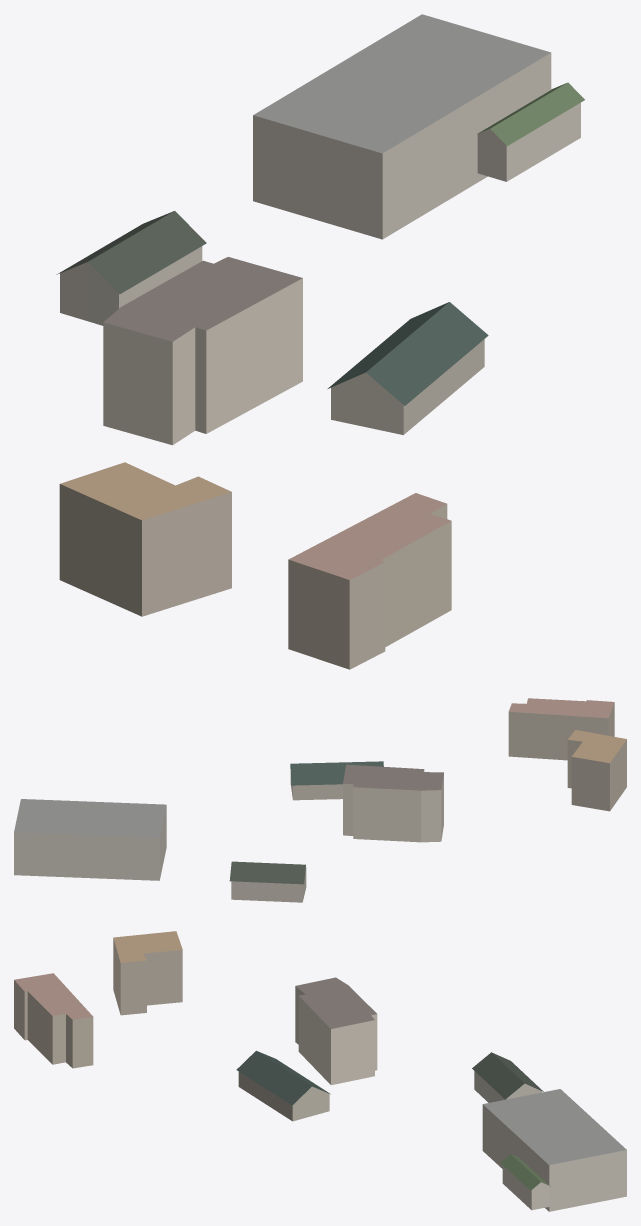
3 views of the same model, one above another, from view 1: azimuth 30°, elevation 25°; view 2: azimuth 150°, elevation 25°; view 3: azimuth 270°, elevation 25° (orthographic). The views are drawn at different scales.
Parts seen in each view (by area): view 1: tuile; view 2: tuile; view 3: tuile.
Part boxes in pixels (left/top/right/bottom): tuile: left=56, top=14, right=584, bottom=669; tuile: left=14, top=698, right=626, bottom=902; tuile: left=14, top=931, right=626, bottom=1211.
Size of the model in its own units: 109 by 16.72 by 125.
